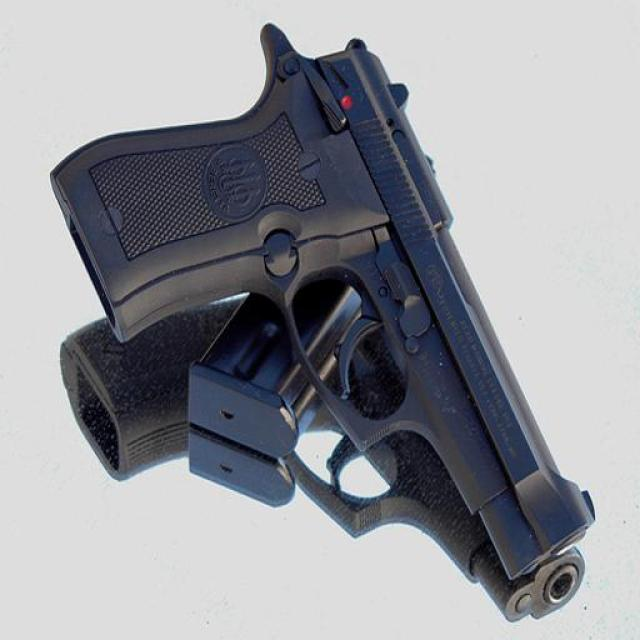pistol: (45, 15, 592, 619)
